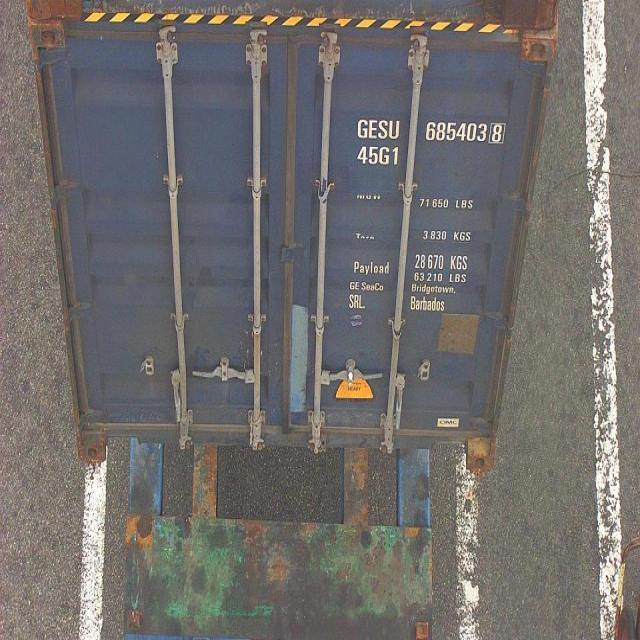ISO: (358, 146, 400, 166)
container_number: (357, 116, 504, 142)
